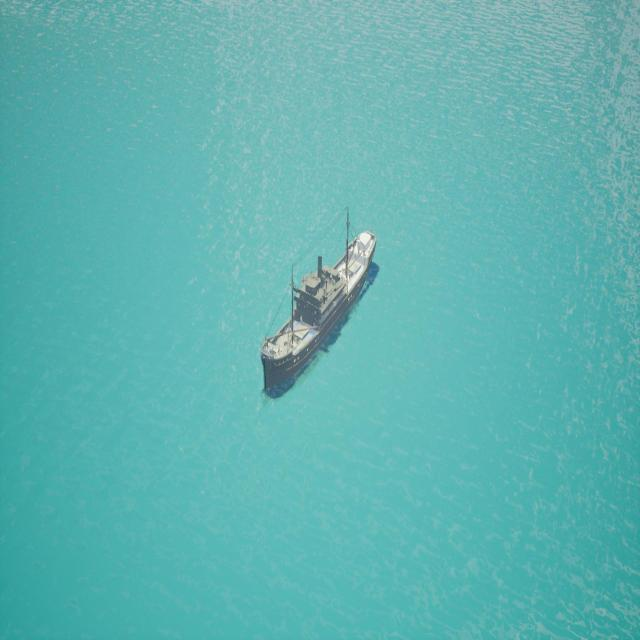fishing ship: (257, 231, 382, 401)
